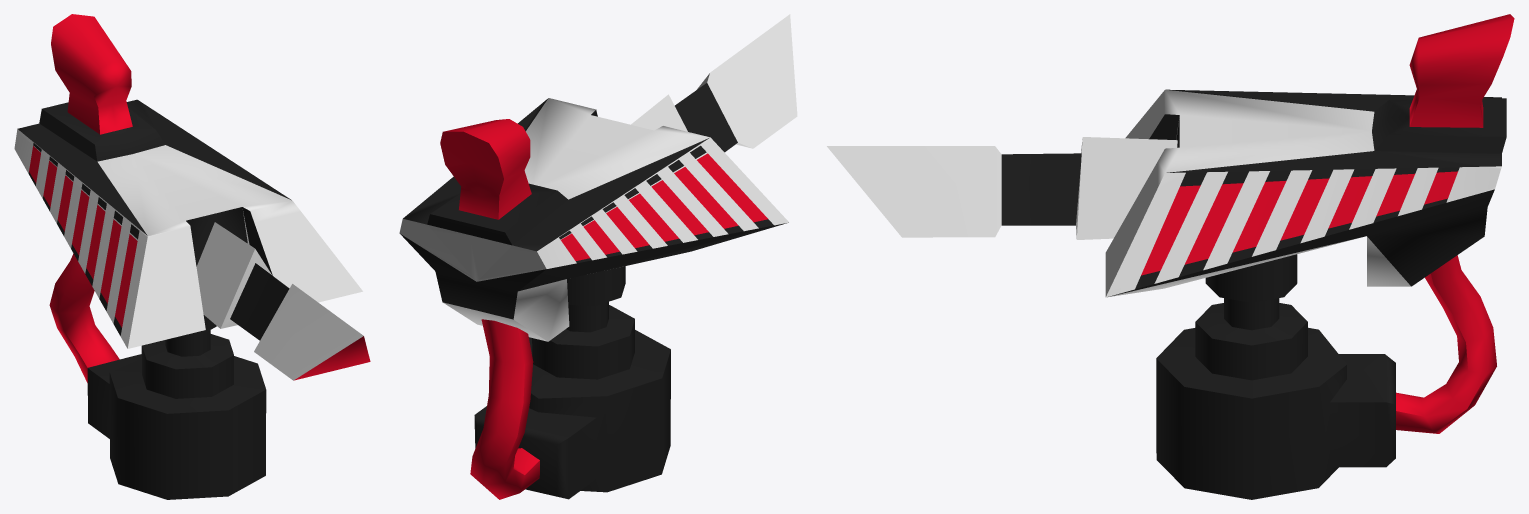
Rendered from LaserTurret1.fbx.
3 views of the same model, side by side, from view 1: azimuth 30°, elevation 25°; view 2: azimuth 150°, elevation 25°; view 3: azimuth 270°, elevation 25° (orthographic). The views are drawn at different scales.
Visible parts, largest first — view 1: polySurface1, polySurface3, polySurface2; view 2: polySurface1, polySurface3, polySurface2; view 3: polySurface1, polySurface3, polySurface2.
Boxes of the visible parts, bbox=[...] form: polySurface1: bbox=[14, 14, 370, 380]; polySurface3: bbox=[87, 315, 266, 499]; polySurface2: bbox=[49, 253, 119, 382]; polySurface1: bbox=[399, 14, 797, 341]; polySurface3: bbox=[474, 266, 670, 499]; polySurface2: bbox=[470, 319, 539, 499]; polySurface1: bbox=[827, 14, 1514, 297]; polySurface3: bbox=[1156, 254, 1395, 499]; polySurface2: bbox=[1396, 255, 1496, 433].
Bounding box in the file's own units: 85.27 × 129 × 183.
